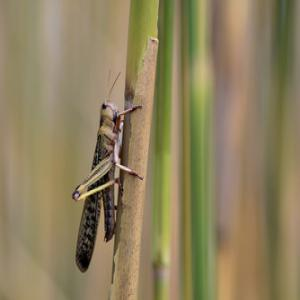locust: (70, 74, 146, 270)
